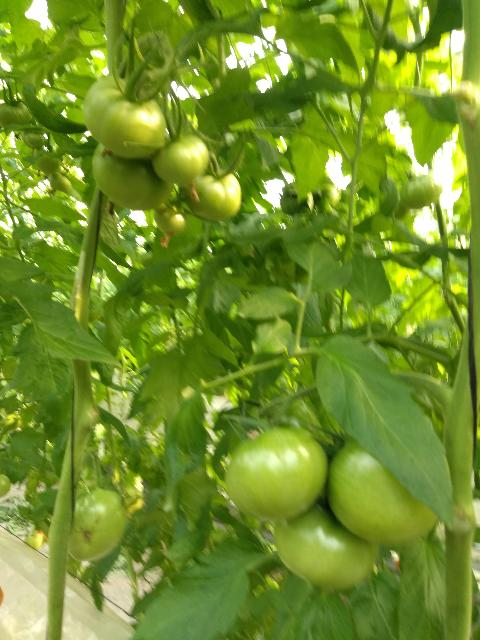b_green: (328, 433, 439, 545), (226, 425, 328, 522), (274, 497, 380, 590), (83, 76, 167, 160), (92, 142, 174, 211), (67, 489, 127, 561), (179, 164, 242, 221), (152, 134, 208, 185), (0, 101, 31, 129), (24, 132, 44, 148), (0, 475, 10, 498)
